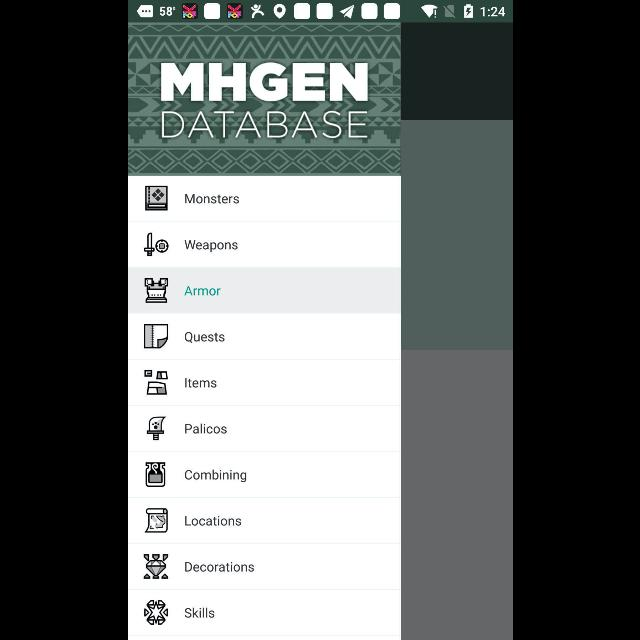image: (128, 23, 400, 176), (142, 554, 168, 580), (144, 370, 168, 396), (142, 324, 168, 348), (144, 186, 168, 212), (143, 600, 167, 624), (144, 508, 168, 532), (144, 278, 168, 302), (144, 233, 168, 257), (145, 462, 165, 488), (146, 416, 166, 440)
panel: (128, 22, 400, 640)
text: (185, 190, 238, 208), (184, 236, 236, 254), (184, 470, 246, 482), (184, 562, 253, 572), (184, 516, 240, 526), (184, 424, 226, 434), (184, 332, 224, 342), (184, 286, 220, 296), (184, 378, 216, 388), (184, 608, 214, 618)
uppertaskbar: (128, 1, 512, 23)
